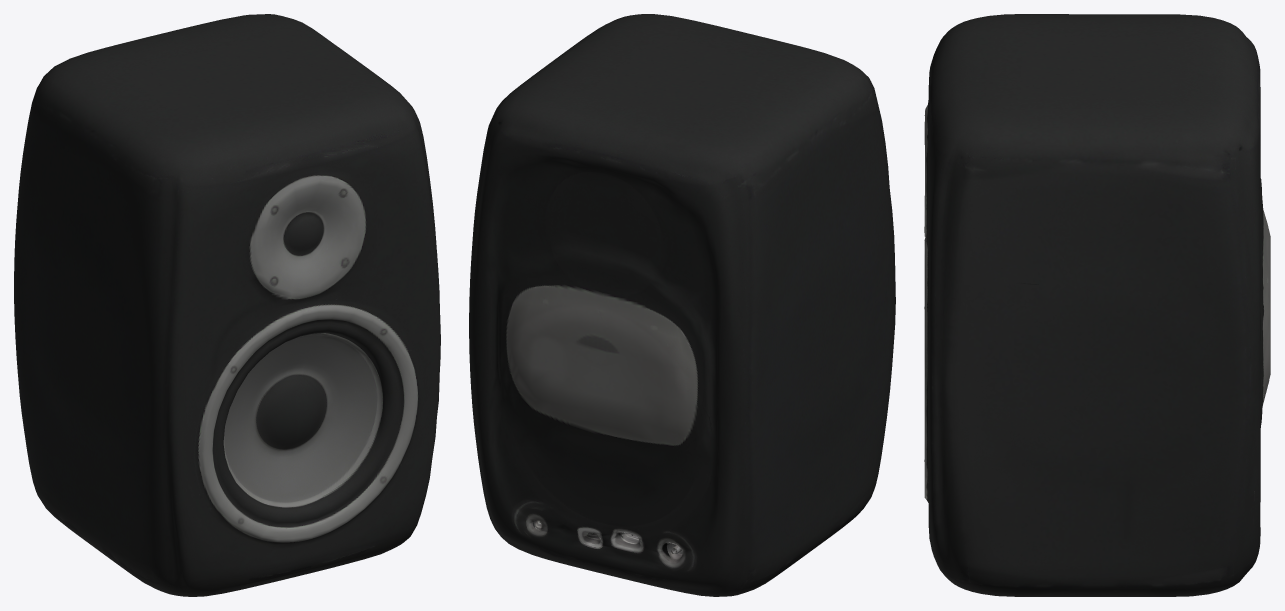
File: Black_bookshelf_speak.glb
3 views of the same model, side by side, from view 1: azimuth 30°, elevation 25°; view 2: azimuth 150°, elevation 25°; view 3: azimuth 270°, elevation 25° (orthographic). The views are drawn at different scales.
Size of the model in its own units: 1.27 by 1.91 by 1.26.
1 material, 1 textured.
